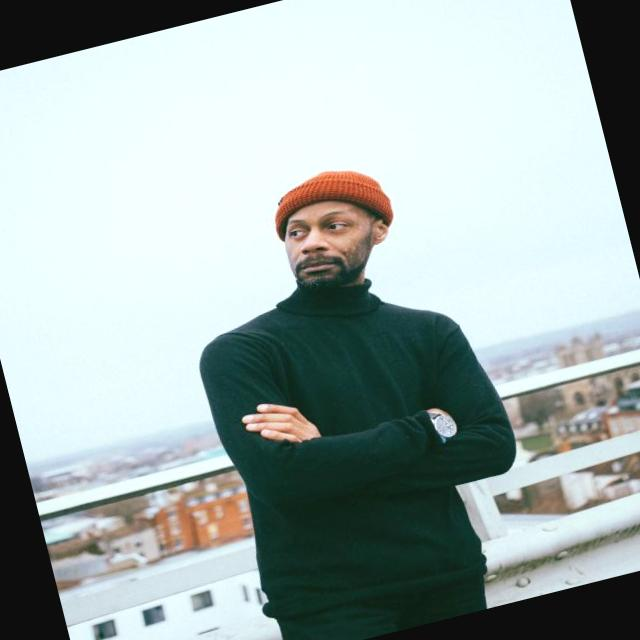person: (158, 140, 553, 640)
